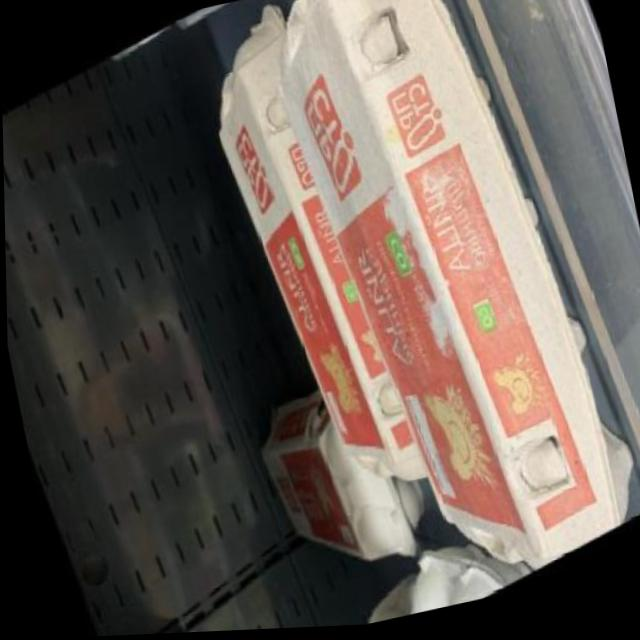Egg: (238, 0, 640, 631), (179, 1, 429, 539)
